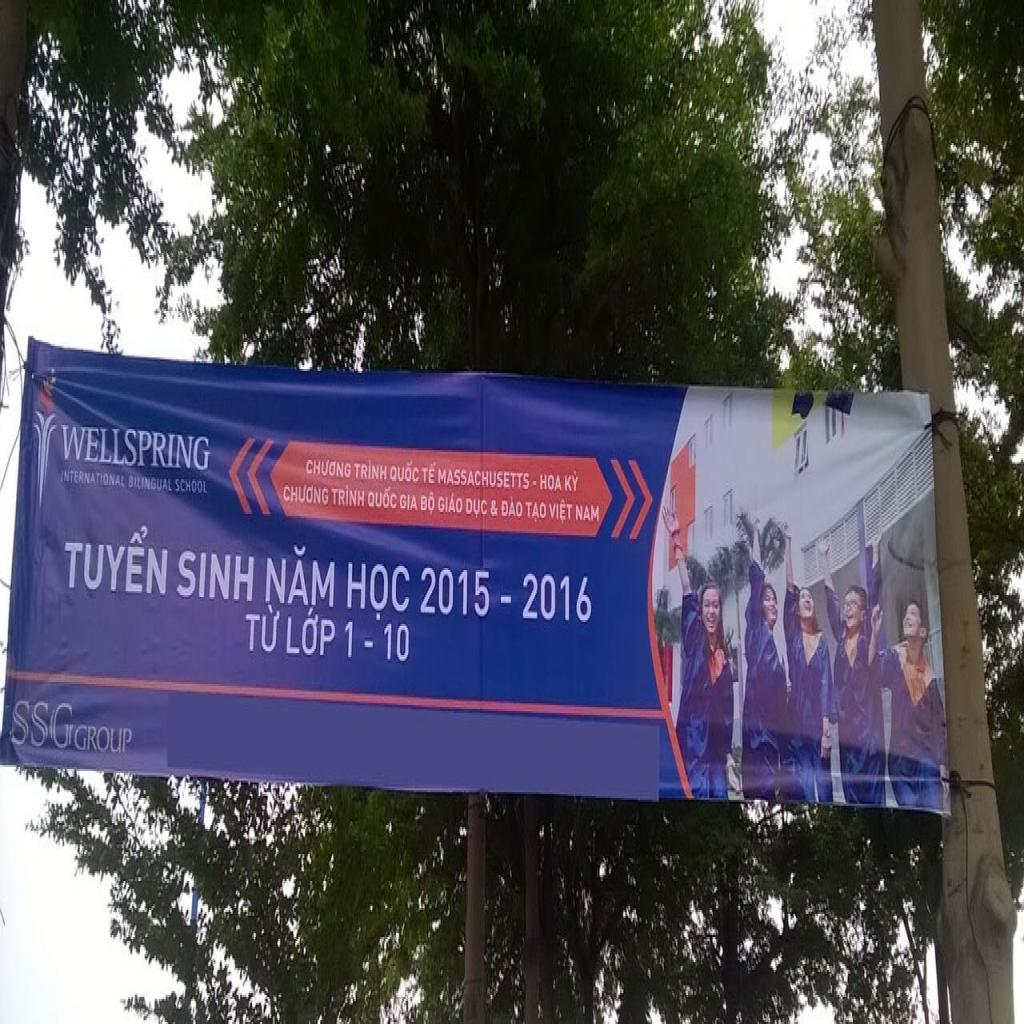text: (62, 520, 172, 604), (60, 418, 214, 476), (262, 537, 338, 613), (174, 543, 258, 609), (418, 560, 496, 624), (521, 566, 597, 630), (344, 556, 414, 624), (9, 688, 77, 753), (284, 606, 338, 664), (436, 464, 537, 490), (58, 464, 127, 496), (244, 603, 282, 659), (304, 452, 353, 483), (382, 622, 412, 669), (282, 481, 330, 510), (127, 470, 174, 496), (330, 483, 366, 514), (354, 458, 388, 487), (389, 458, 420, 489), (548, 496, 574, 530), (172, 476, 210, 498), (368, 487, 398, 514), (342, 616, 358, 666), (574, 500, 602, 526), (501, 494, 525, 524), (465, 494, 489, 522), (539, 470, 564, 496), (438, 494, 463, 518), (524, 500, 547, 526), (420, 458, 438, 489), (398, 491, 420, 516), (563, 470, 581, 500), (419, 491, 436, 518), (498, 589, 514, 611), (361, 636, 375, 657), (490, 496, 500, 522)
